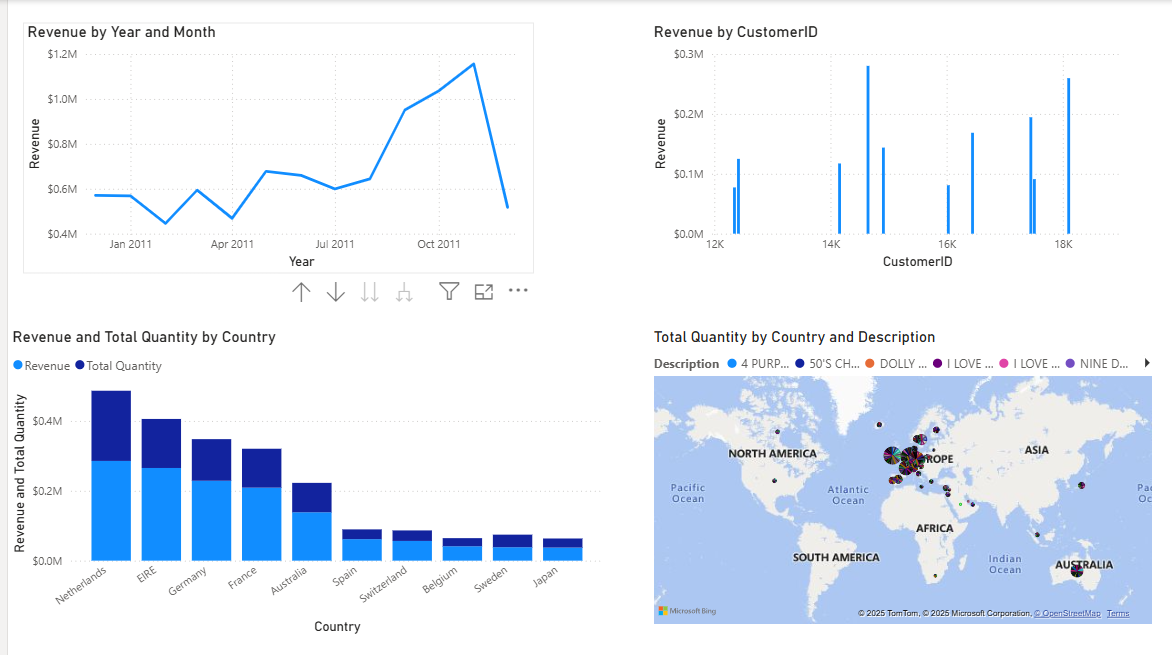

This screenshot's page, from the dashboard's own definition file:
{"tool":"powerbi","page":{"name":"Page 1","canvas":[1280,720],"ordinal":0},"visuals":[{"type":"lineChart","fields":{"Category":["Online Retail.InvoiceDate.Variation.Date Hierarchy.Year","Online Retail.InvoiceDate.Variation.Date Hierarchy.Month"],"Y":["Online Retail.Revenue"]},"box":[16.5,24.7,561.2,275.8],"z":0},{"type":"columnChart","fields":{"Category":["Online Retail.Country"],"Y":["Online Retail.Revenue","Online Retail.Total Quantity"]},"box":[0,359.5,658.7,341.7],"z":1000},{"type":"clusteredColumnChart","fields":{"Category":["Online Retail.CustomerID"],"Y":["Online Retail.Revenue"]},"box":[703.9,24.7,533.8,275.8],"z":2000},{"type":"map","fields":{"Category":["Online Retail.Country"],"Size":["Online Retail.Total Quantity"],"Series":["Online Retail.Description"]},"box":[703.9,359.5,557.1,330.7],"z":3000}]}

Visuals, with their boxes in screenshot pixels (x1, y1, x2, y2), scaled from the page's 1280x720 canvas onto the 1172x655 screenshot:
lineChart - Online Retail.InvoiceDate.Variation.Date Hierarchy.Year x Online Retail.InvoiceDate.Variation.Date Hierarchy.Month: detection(15, 22, 529, 273)
columnChart - Online Retail.Country x Online Retail.Revenue: detection(0, 327, 603, 638)
clusteredColumnChart - Online Retail.CustomerID x Online Retail.Revenue: detection(645, 22, 1133, 273)
map - Online Retail.Country x Online Retail.Total Quantity: detection(645, 327, 1155, 628)
